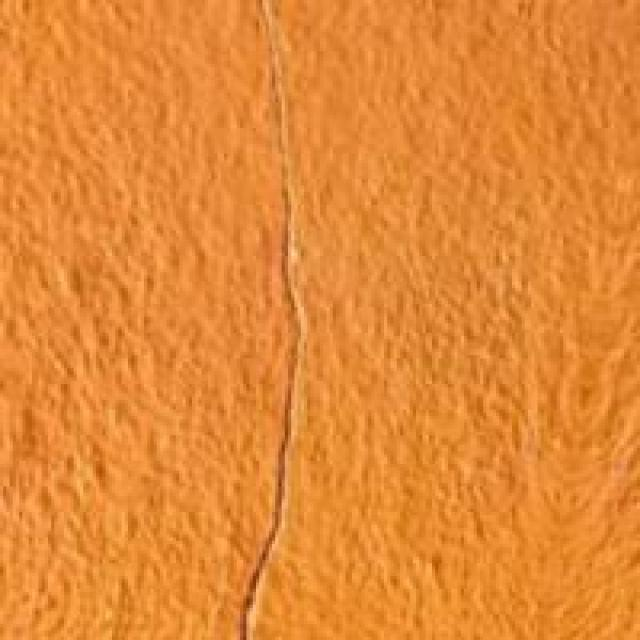crack: (176, 202, 317, 636)
